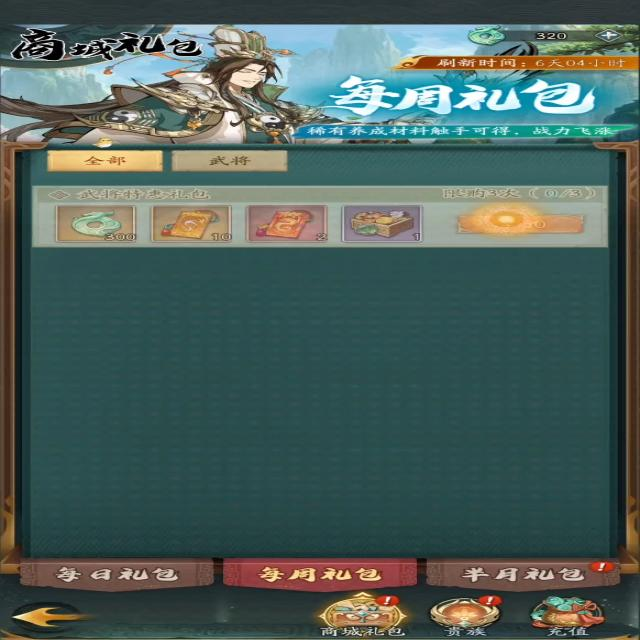hint-reddot: (469, 593, 505, 607), (585, 559, 619, 573), (374, 594, 400, 608)
operation-DailyGiftPack: (13, 555, 223, 595)
operation-HalfMonthGiftPack: (422, 555, 624, 592)
operation-WeeklyGiftPack: (223, 555, 422, 593)
operation-back: (0, 596, 103, 633)
